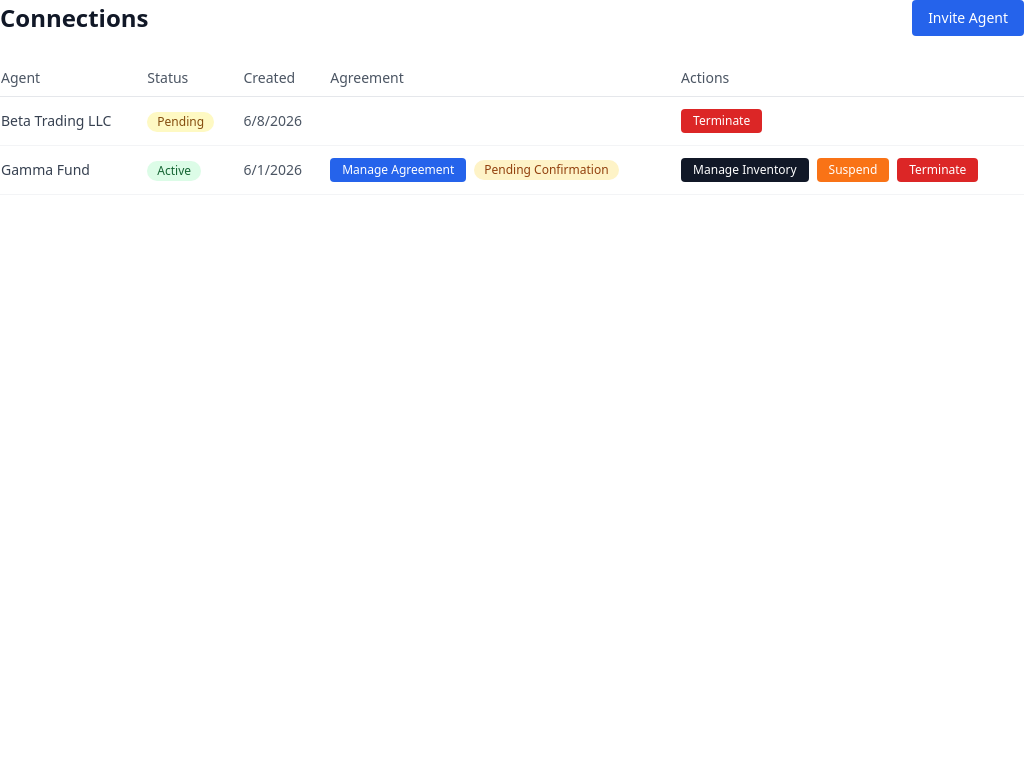
SupplierConnectionsPage › shows inline validation error for invalid inventory quantity
Click the button "Manage Inventory". click: (745,170)
box: [681,158,809,182]
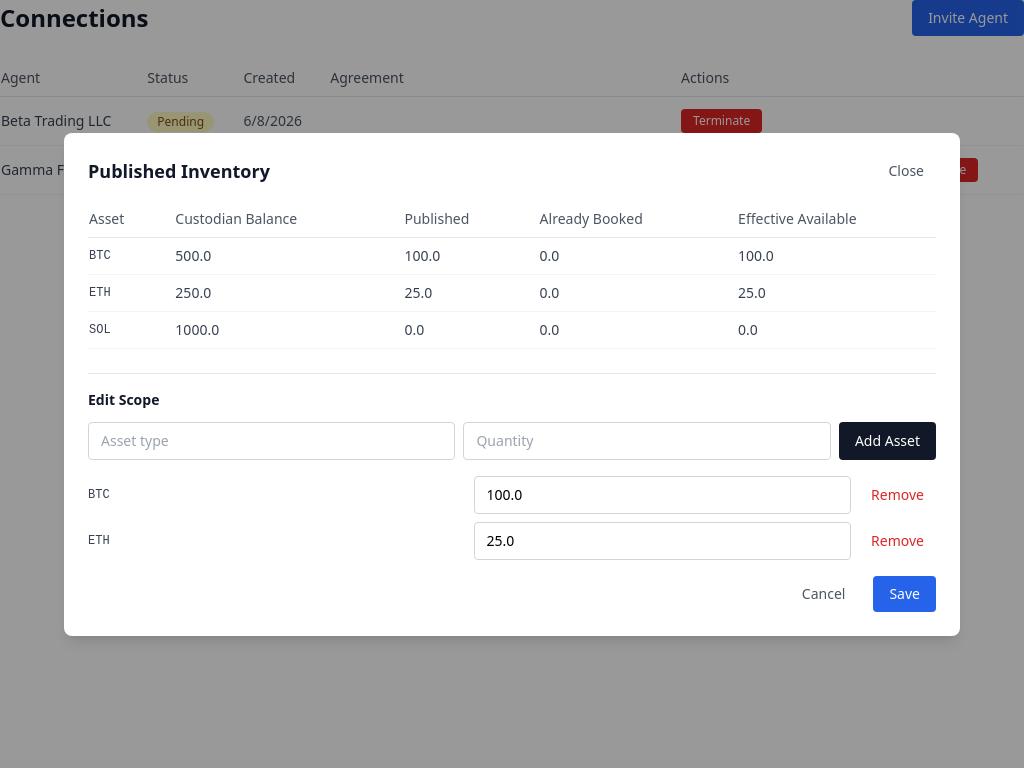
Result: the text "BTC" is shown at [88,237,174,274]
Replace the text in the field named "BTC quantity" with "-1". click: (662,494)
box: [474,476,851,514]
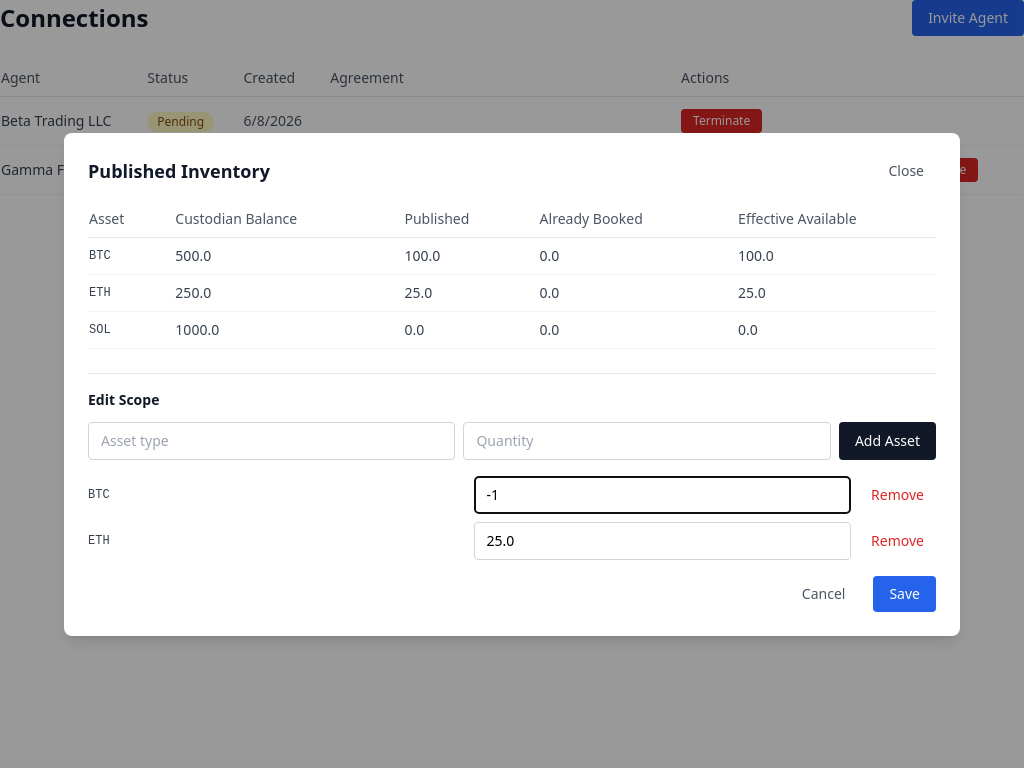
Click the button "Save". click: (905,594)
box: [873,576,936,612]
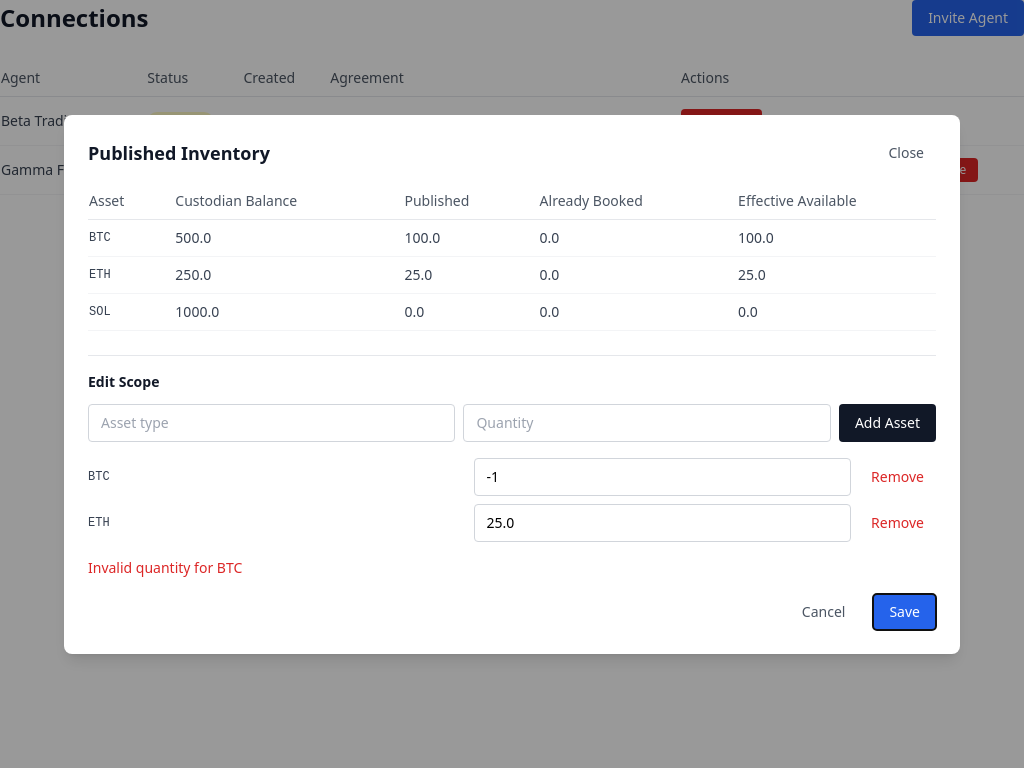
Result: the message reads "Invalid quantity for BTC" at [88,558,242,576]
